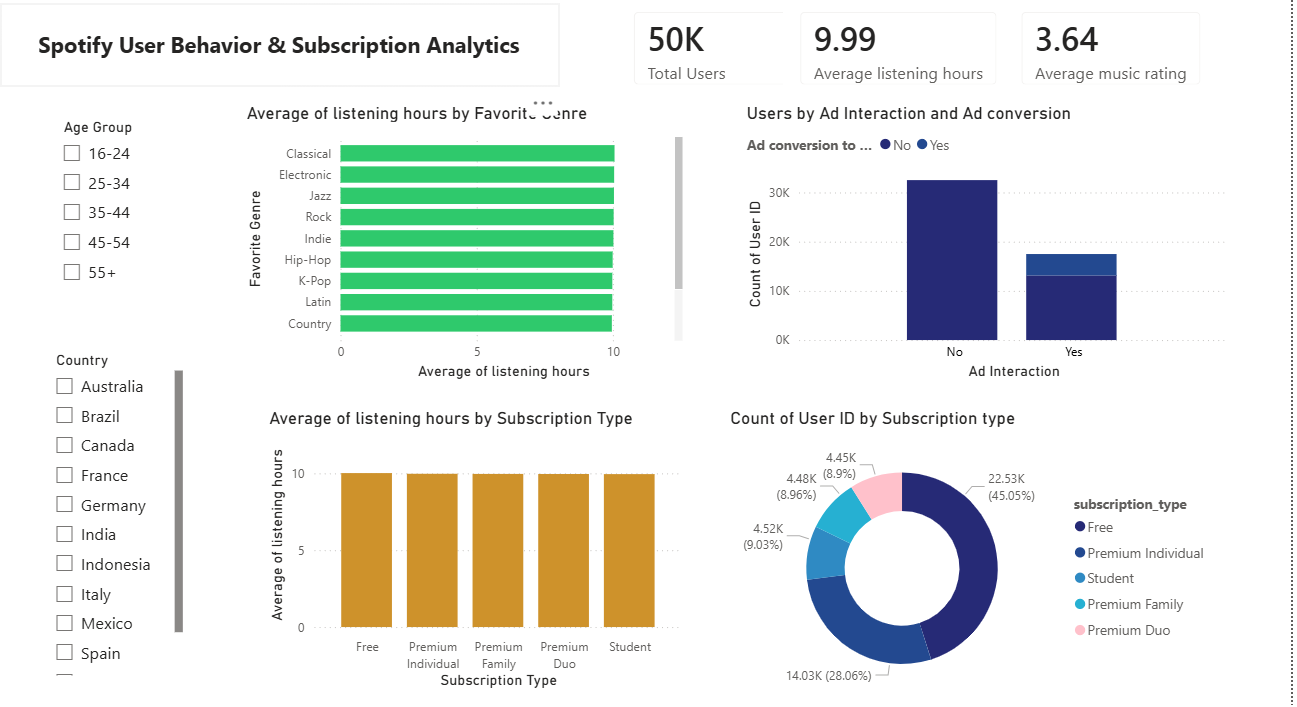

The page's visual inventory and layout, read from the dashboard file:
{"tool":"powerbi","page":{"name":"Page 1","canvas":[1280,720],"ordinal":0},"visuals":[{"type":"cardVisual","fields":{"Data":["Count(spotify_user_behavior_realistic.user_id)"]},"box":[620,3.7,187.1,105.2],"z":0},{"type":"cardVisual","fields":{"Data":["Avg(spotify_user_behavior_realistic.avg_listening_hours_per_week)"]},"box":[782.6,3.7,226.2,105.2],"z":1000},{"type":"cardVisual","fields":{"Data":["Avg(spotify_user_behavior_realistic.music rating)"]},"box":[999.1,3.7,209.1,105.2],"z":2000},{"type":"clusteredBarChart","fields":{"Category":["spotify_user_behavior_realistic.favorite_genre"],"Y":["Avg(spotify_user_behavior_realistic.listening hours)"]},"box":[253.1,108.8,436.6,276.4],"z":3000},{"type":"donutChart","title":"Count of User ID by Subscription type","fields":{"Category":["spotify_user_behavior_realistic.subscription_type"],"Y":["Count(spotify_user_behavior_realistic.user_id)"]},"box":[726.4,407.2,481.8,294.7],"z":4000},{"type":"clusteredColumnChart","fields":{"Category":["spotify_user_behavior_realistic.subscription_type"],"Y":["Avg(spotify_user_behavior_realistic.listening hours)"]},"box":[275.1,407.2,414.5,280],"z":5000},{"type":"slicer","fields":{"Values":["spotify_user_behavior_realistic.country"]},"box":[58.7,347.3,141.8,327.7],"z":6000},{"type":"columnChart","title":"Users by Ad Interaction and Ad conversion ","fields":{"Category":["spotify_user_behavior_realistic.ad_interaction"],"Series":["spotify_user_behavior_realistic.ad_conversion_to_subscription"],"Y":["Count(spotify_user_behavior_realistic.user_id)"]},"box":[742.3,108.8,481.8,276.4],"z":7000},{"type":"textbox","box":[17.1,12.2,546.6,80.7],"z":8000},{"type":"slicer","fields":{"Values":["spotify_user_behavior_realistic.Age Group"]},"box":[66,119.8,134.5,227.4],"z":9000}]}

Visuals, with their boxes on the page's 1280x720 design canvas (x1, y1, x2, y2). These are canvas units, not pixel positions in the 1297x707 screenshot, which may show the page scaled, cropped or inside an application window:
cardVisual - Count(spotify_user_behavior_realistic.user_id): (left=620, top=4, right=807, bottom=109)
cardVisual - Avg(spotify_user_behavior_realistic.avg_listening_hours_per_week): (left=783, top=4, right=1009, bottom=109)
cardVisual - Avg(spotify_user_behavior_realistic.music rating): (left=999, top=4, right=1208, bottom=109)
clusteredBarChart - spotify_user_behavior_realistic.favorite_genre x Avg(spotify_user_behavior_realistic.listening hours): (left=253, top=109, right=690, bottom=385)
"Count of User ID by Subscription type" donutChart: (left=726, top=407, right=1208, bottom=702)
clusteredColumnChart - spotify_user_behavior_realistic.subscription_type x Avg(spotify_user_behavior_realistic.listening hours): (left=275, top=407, right=690, bottom=687)
slicer - spotify_user_behavior_realistic.country: (left=59, top=347, right=200, bottom=675)
"Users by Ad Interaction and Ad conversion " columnChart: (left=742, top=109, right=1224, bottom=385)
textbox: (left=17, top=12, right=564, bottom=93)
slicer - spotify_user_behavior_realistic.Age Group: (left=66, top=120, right=200, bottom=347)
